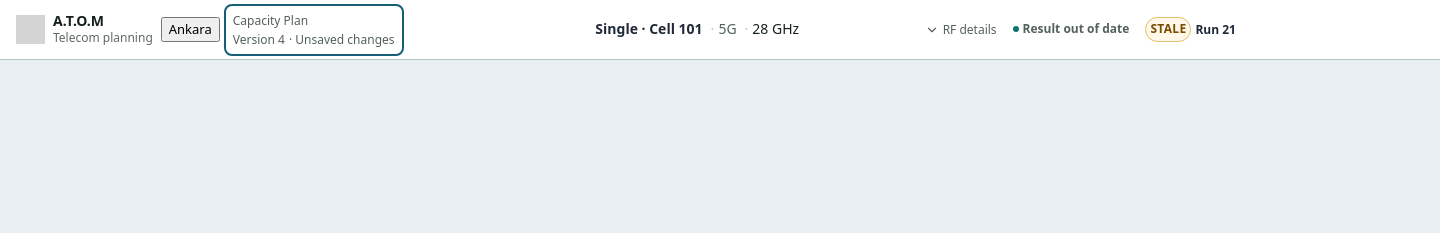
Test: persistent result and workspace context › keeps Project, Scenario, Version, and draft state keyboard-readable in the header
This screenshot has width=1440, height=233.
Expected: the text "STALE" is shown, [1145,17,1191,42]
Expected: the element named "Workspace" is shown, [16,11,395,48]
Click the heading "Capacity Plan Version 4 · Unsaved changes" at (314, 30), box [228,8,400,52]
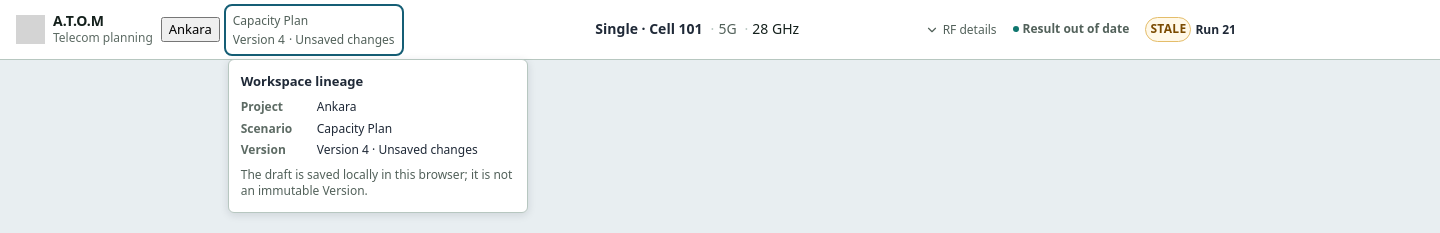
Result: the text "Workspace lineage" is shown at [241,72,363,90]
Result: the element with class "workspace-lineage-popover" shows "Ankara" at [317,98,356,115]
Result: the text "saved locally in this browser; it is not an immutable Version" is shown at [241,166,512,199]
